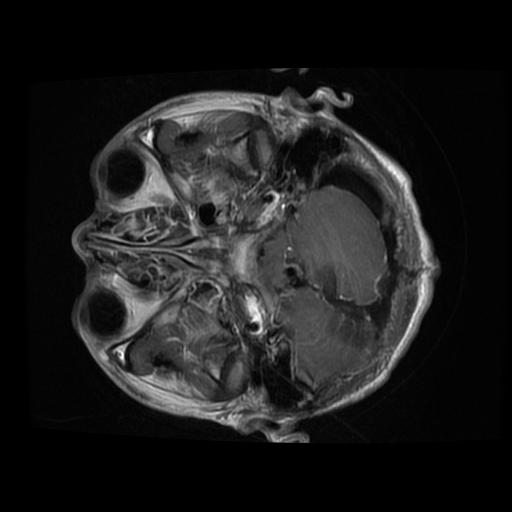glioma: (314, 263, 375, 353)
